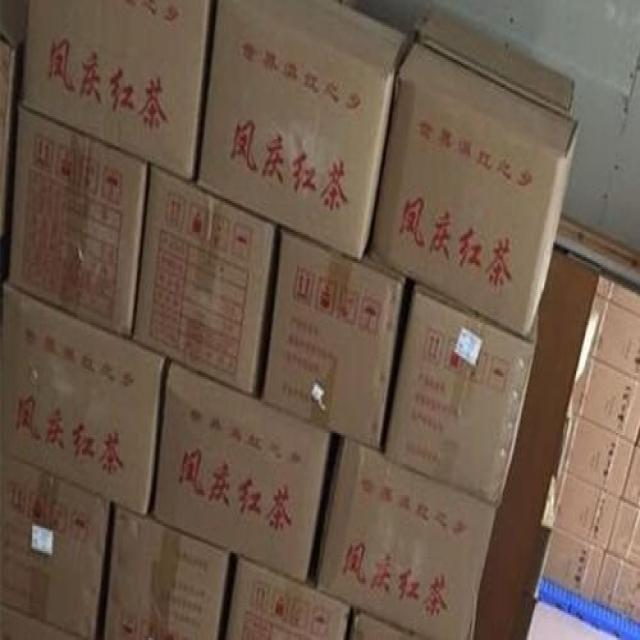box: (372, 41, 581, 336), (196, 0, 416, 261), (154, 360, 334, 582), (0, 282, 168, 518), (316, 435, 497, 638), (19, 2, 218, 180), (385, 282, 539, 509), (132, 164, 278, 396), (8, 106, 151, 338), (264, 224, 407, 451), (0, 451, 111, 638), (411, 0, 576, 118), (104, 505, 230, 640), (225, 557, 351, 640), (553, 412, 636, 499), (567, 352, 640, 447), (0, 0, 28, 238), (543, 466, 621, 551), (581, 275, 640, 379), (540, 528, 607, 605), (594, 555, 640, 626), (346, 607, 422, 640), (608, 501, 640, 568), (621, 447, 640, 510)
